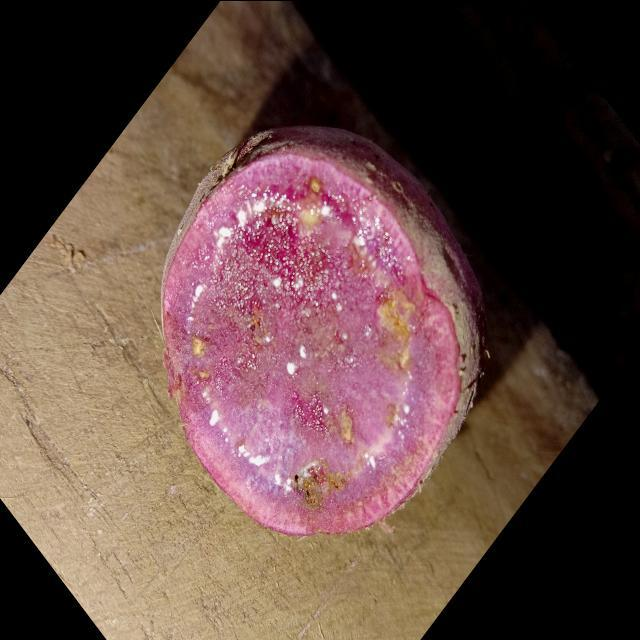Sick Sweet Potato_Tuber Rot: (164, 152, 460, 535)
